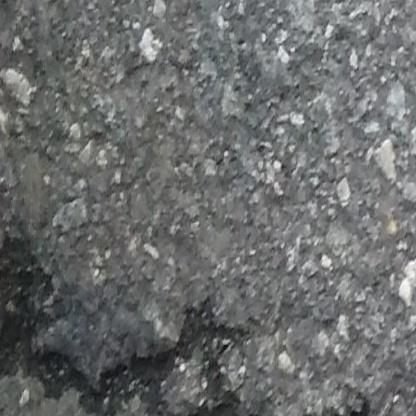Cracks: (0, 234, 269, 416), (329, 400, 375, 416)
